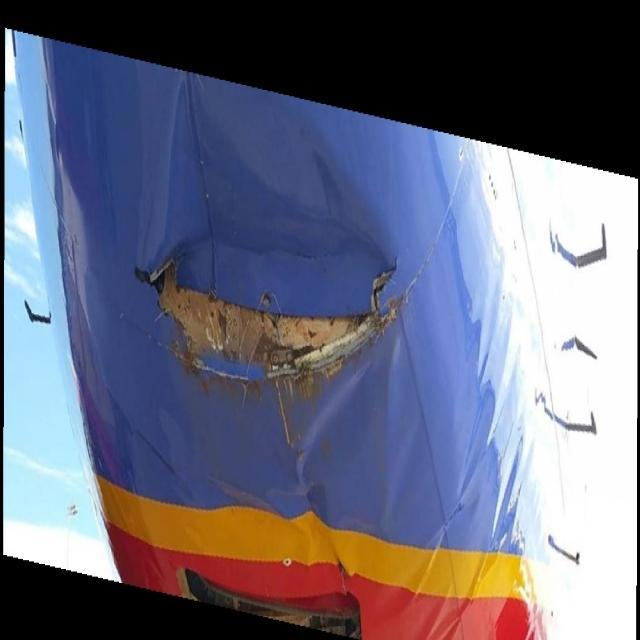crack: (134, 237, 424, 409)
